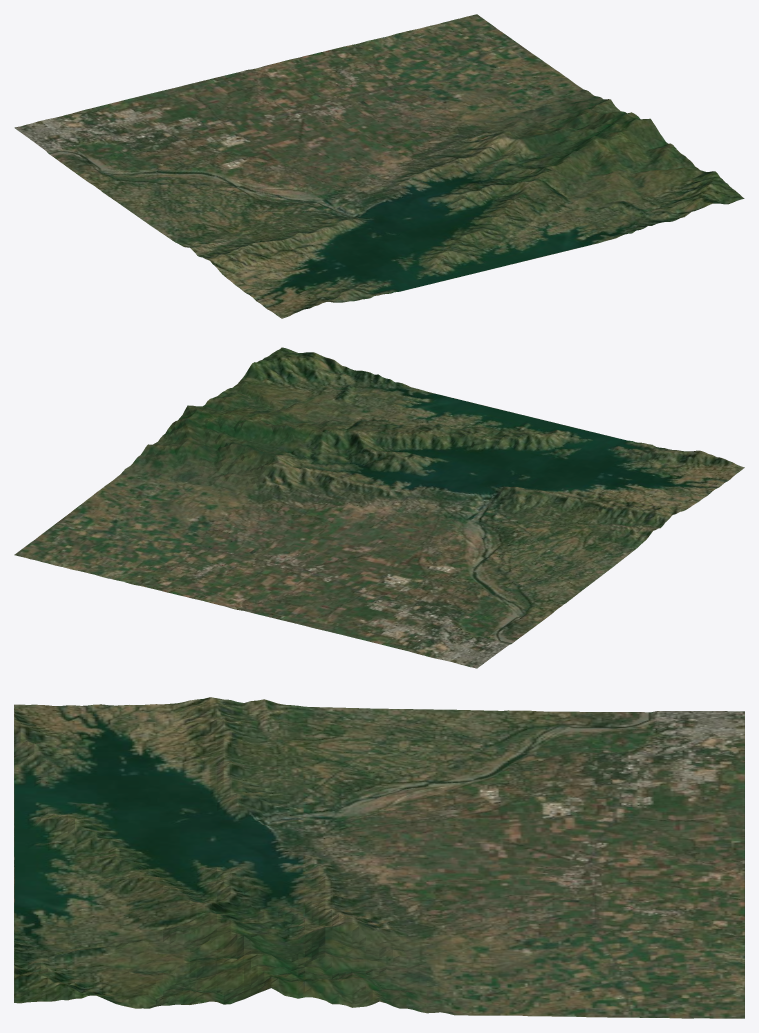
3 views of the same model, one above another, from view 1: azimuth 30°, elevation 25°; view 2: azimuth 150°, elevation 25°; view 3: azimuth 270°, elevation 25° (orthographic). The views are drawn at different scales.
Parts seen in each view (by area): view 1: geometry_0; view 2: geometry_0; view 3: geometry_0.
Boxes of the visible parts, x1,y1,x2,y2 form: geometry_0: [14, 14, 744, 318]; geometry_0: [14, 347, 744, 668]; geometry_0: [14, 697, 744, 1018].
Bounding box in the file's own units: 9989 × 510 × 10010.
Materials: 1 (1 with a texture image).
